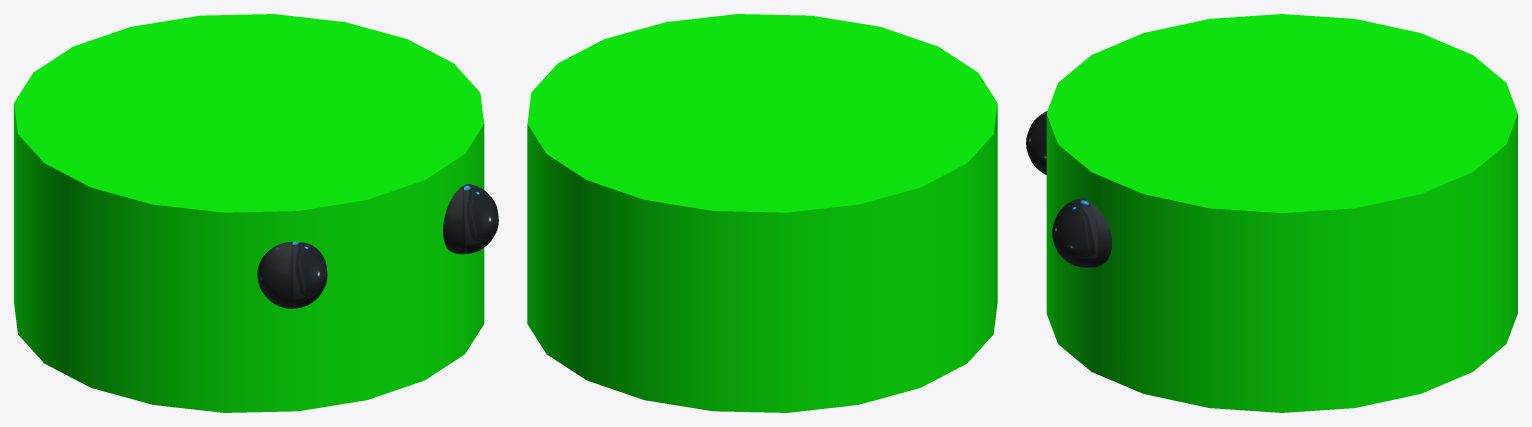
File: head.obj
3 views of the same model, side by side, from view 1: azimuth 30°, elevation 25°; view 2: azimuth 150°, elevation 25°; view 3: azimuth 270°, elevation 25° (orthographic).
Visible parts, largest first — view 1: pSphere3; view 2: pSphere3; view 3: pSphere3.
Boxes of the visible parts, x1,y1,x2,y2 form: pSphere3: (14, 14, 498, 412); pSphere3: (527, 14, 997, 412); pSphere3: (1026, 14, 1517, 412).
Bounding box in the file's own units: 33.47 × 15.65 × 34.92.
